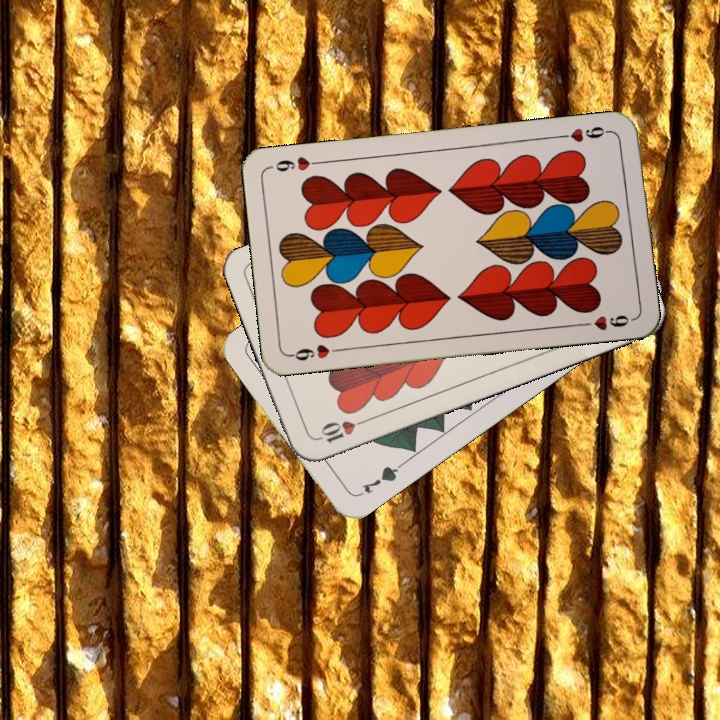G7: (353, 459, 404, 500)
H10: (313, 415, 370, 447)
H9: (286, 340, 345, 364), (555, 122, 614, 145)
